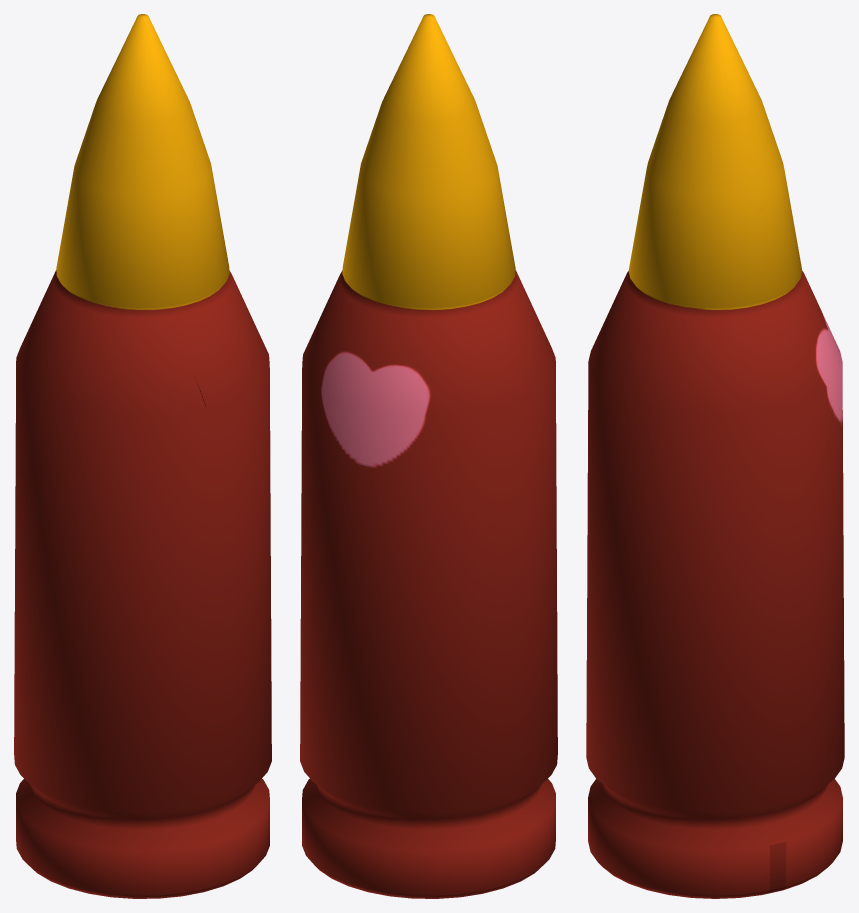
File: ammo-bullet.glb
The picture shows the model from 3 angles, left to right: view 1: azimuth 30°, elevation 25°; view 2: azimuth 150°, elevation 25°; view 3: azimuth 270°, elevation 25°; orthographic projection.
Parts seen in each view (by area): view 1: Cylinder; view 2: Cylinder; view 3: Cylinder.
Boxes of the visible parts, x1,y1,x2,y2 form: Cylinder: [14, 14, 271, 898]; Cylinder: [300, 14, 557, 898]; Cylinder: [586, 14, 844, 898].
Size of the model in its own units: 0.2225 by 0.7898 by 0.2225.
Materials: 1 (1 with a texture image).
